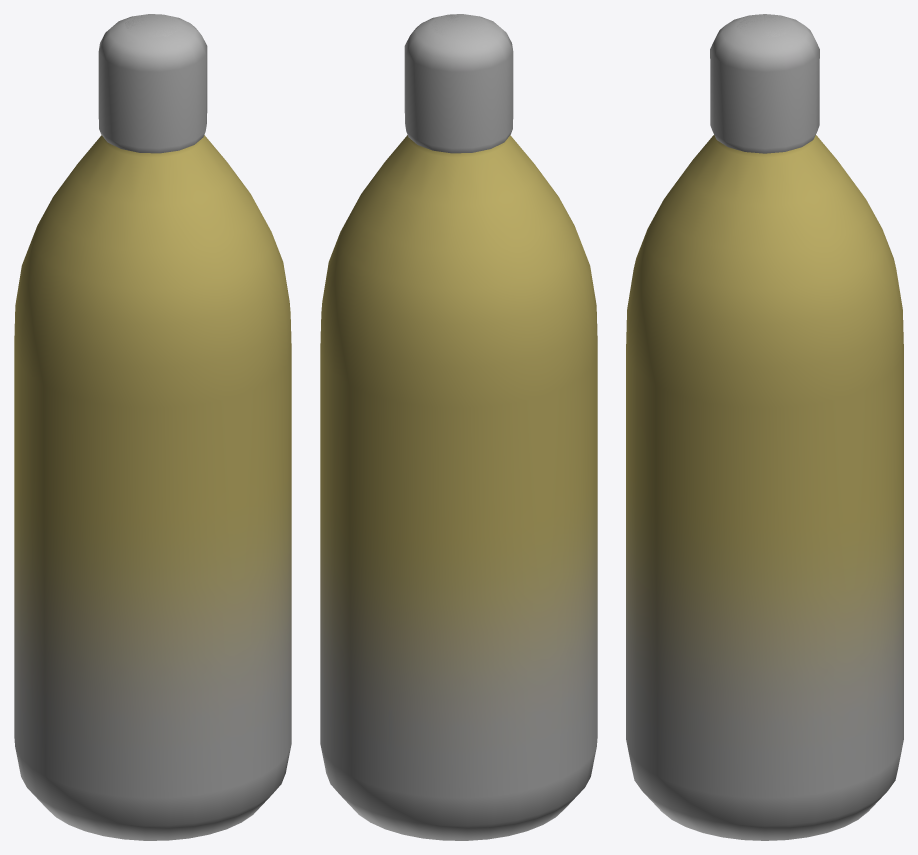
File: pi_waterbottle03_03.gltf
The picture shows the model from 3 angles, left to right: view 1: azimuth 30°, elevation 25°; view 2: azimuth 150°, elevation 25°; view 3: azimuth 270°, elevation 25°; orthographic projection.
Parts seen in each view (by area): view 1: um_pi_waterbottle03_03_model_lod0Shape:pi_waterbottle03_body, um_pi_waterbottle03_03_model_lod1Shape:pi_waterbottle03_body; view 2: um_pi_waterbottle03_03_model_lod0Shape:pi_waterbottle03_body, um_pi_waterbottle03_03_model_lod1Shape:pi_waterbottle03_body; view 3: um_pi_waterbottle03_03_model_lod0Shape:pi_waterbottle03_body, um_pi_waterbottle03_03_model_lod1Shape:pi_waterbottle03_body.
Boxes of the visible parts, bbox=[...] form: um_pi_waterbottle03_03_model_lod0Shape:pi_waterbottle03_body: bbox=[14, 14, 291, 840]; um_pi_waterbottle03_03_model_lod1Shape:pi_waterbottle03_body: bbox=[98, 14, 195, 141]; um_pi_waterbottle03_03_model_lod0Shape:pi_waterbottle03_body: bbox=[320, 14, 597, 840]; um_pi_waterbottle03_03_model_lod1Shape:pi_waterbottle03_body: bbox=[404, 14, 506, 153]; um_pi_waterbottle03_03_model_lod0Shape:pi_waterbottle03_body: bbox=[626, 14, 903, 840]; um_pi_waterbottle03_03_model_lod1Shape:pi_waterbottle03_body: bbox=[736, 14, 819, 153].
Bounding box in the file's own units: 0.127 × 0.387 × 0.1271.
Materials: 1 (1 with a texture image).
